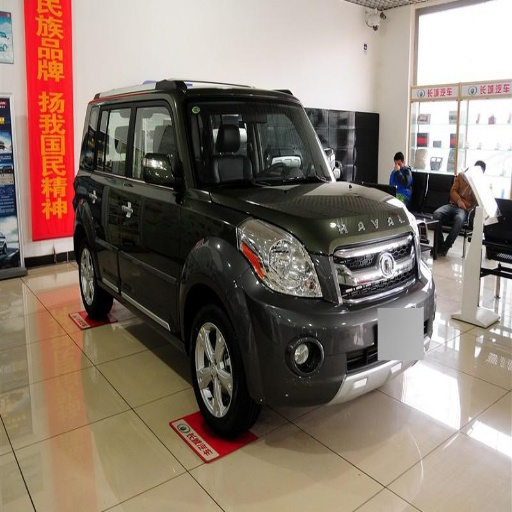front_bumper: (242, 235, 434, 397)
front_right_door: (120, 109, 179, 318)
front_right_light: (239, 217, 324, 299)
